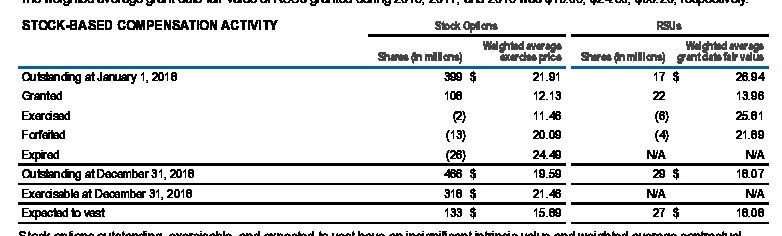table: (0, 0, 782, 236)
